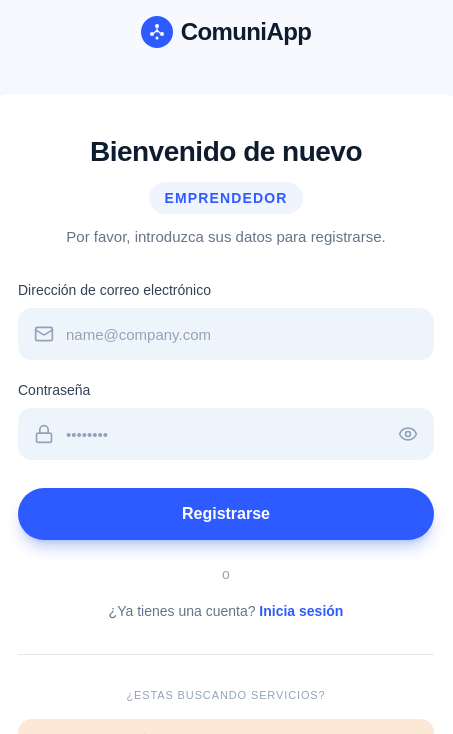
Test: RegistroEmprendedor › muestra errores cuando el formulario está vacío
Click the button "Registrarse". click: (226, 514)
box: [18,488,434,540]
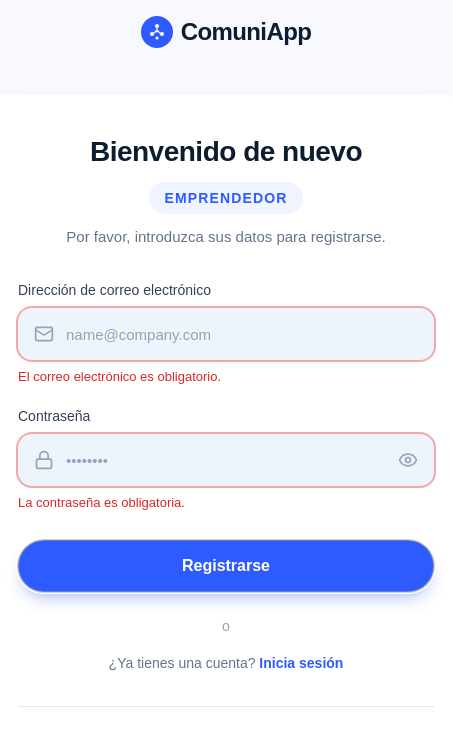
Expected: the text "El correo electrónico es obligatorio." is shown, [18,369,221,384]
Expected: the text "La contraseña es obligatoria." is shown, [18,495,185,510]
